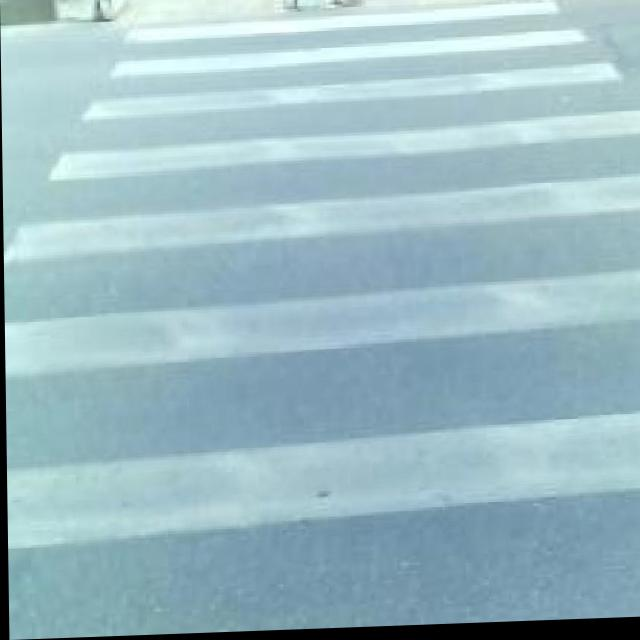zebra: (127, 19, 580, 587)
